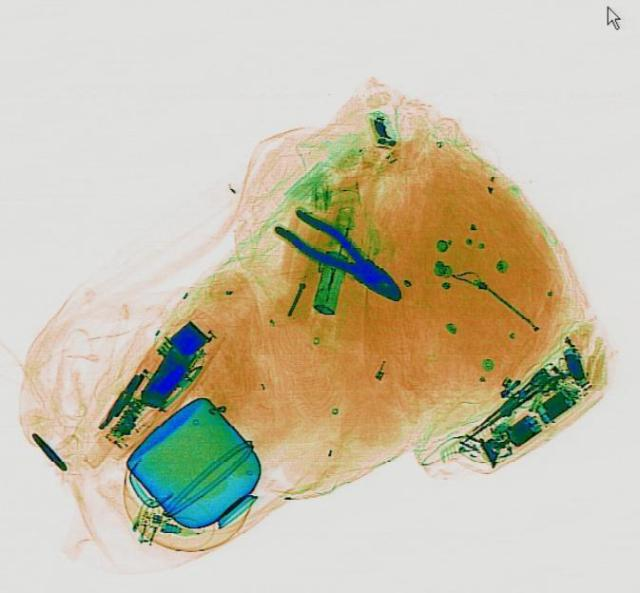Pliers: (267, 200, 415, 311)
